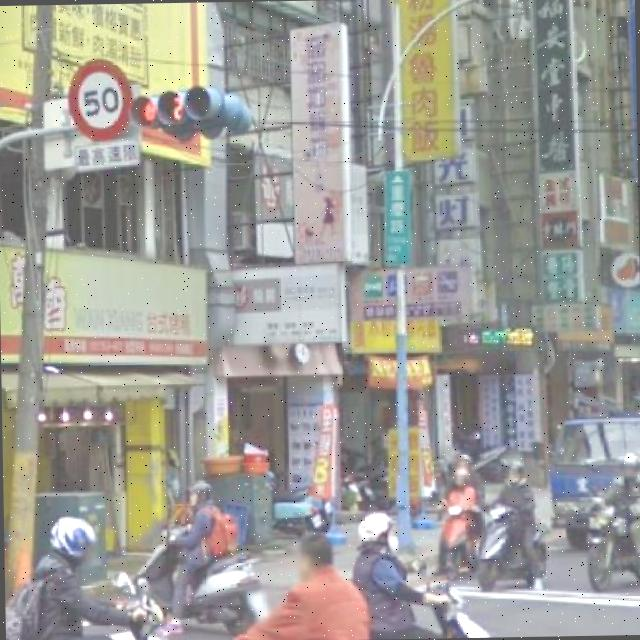Ograniczenie predkosci do 50: (67, 56, 134, 144)
